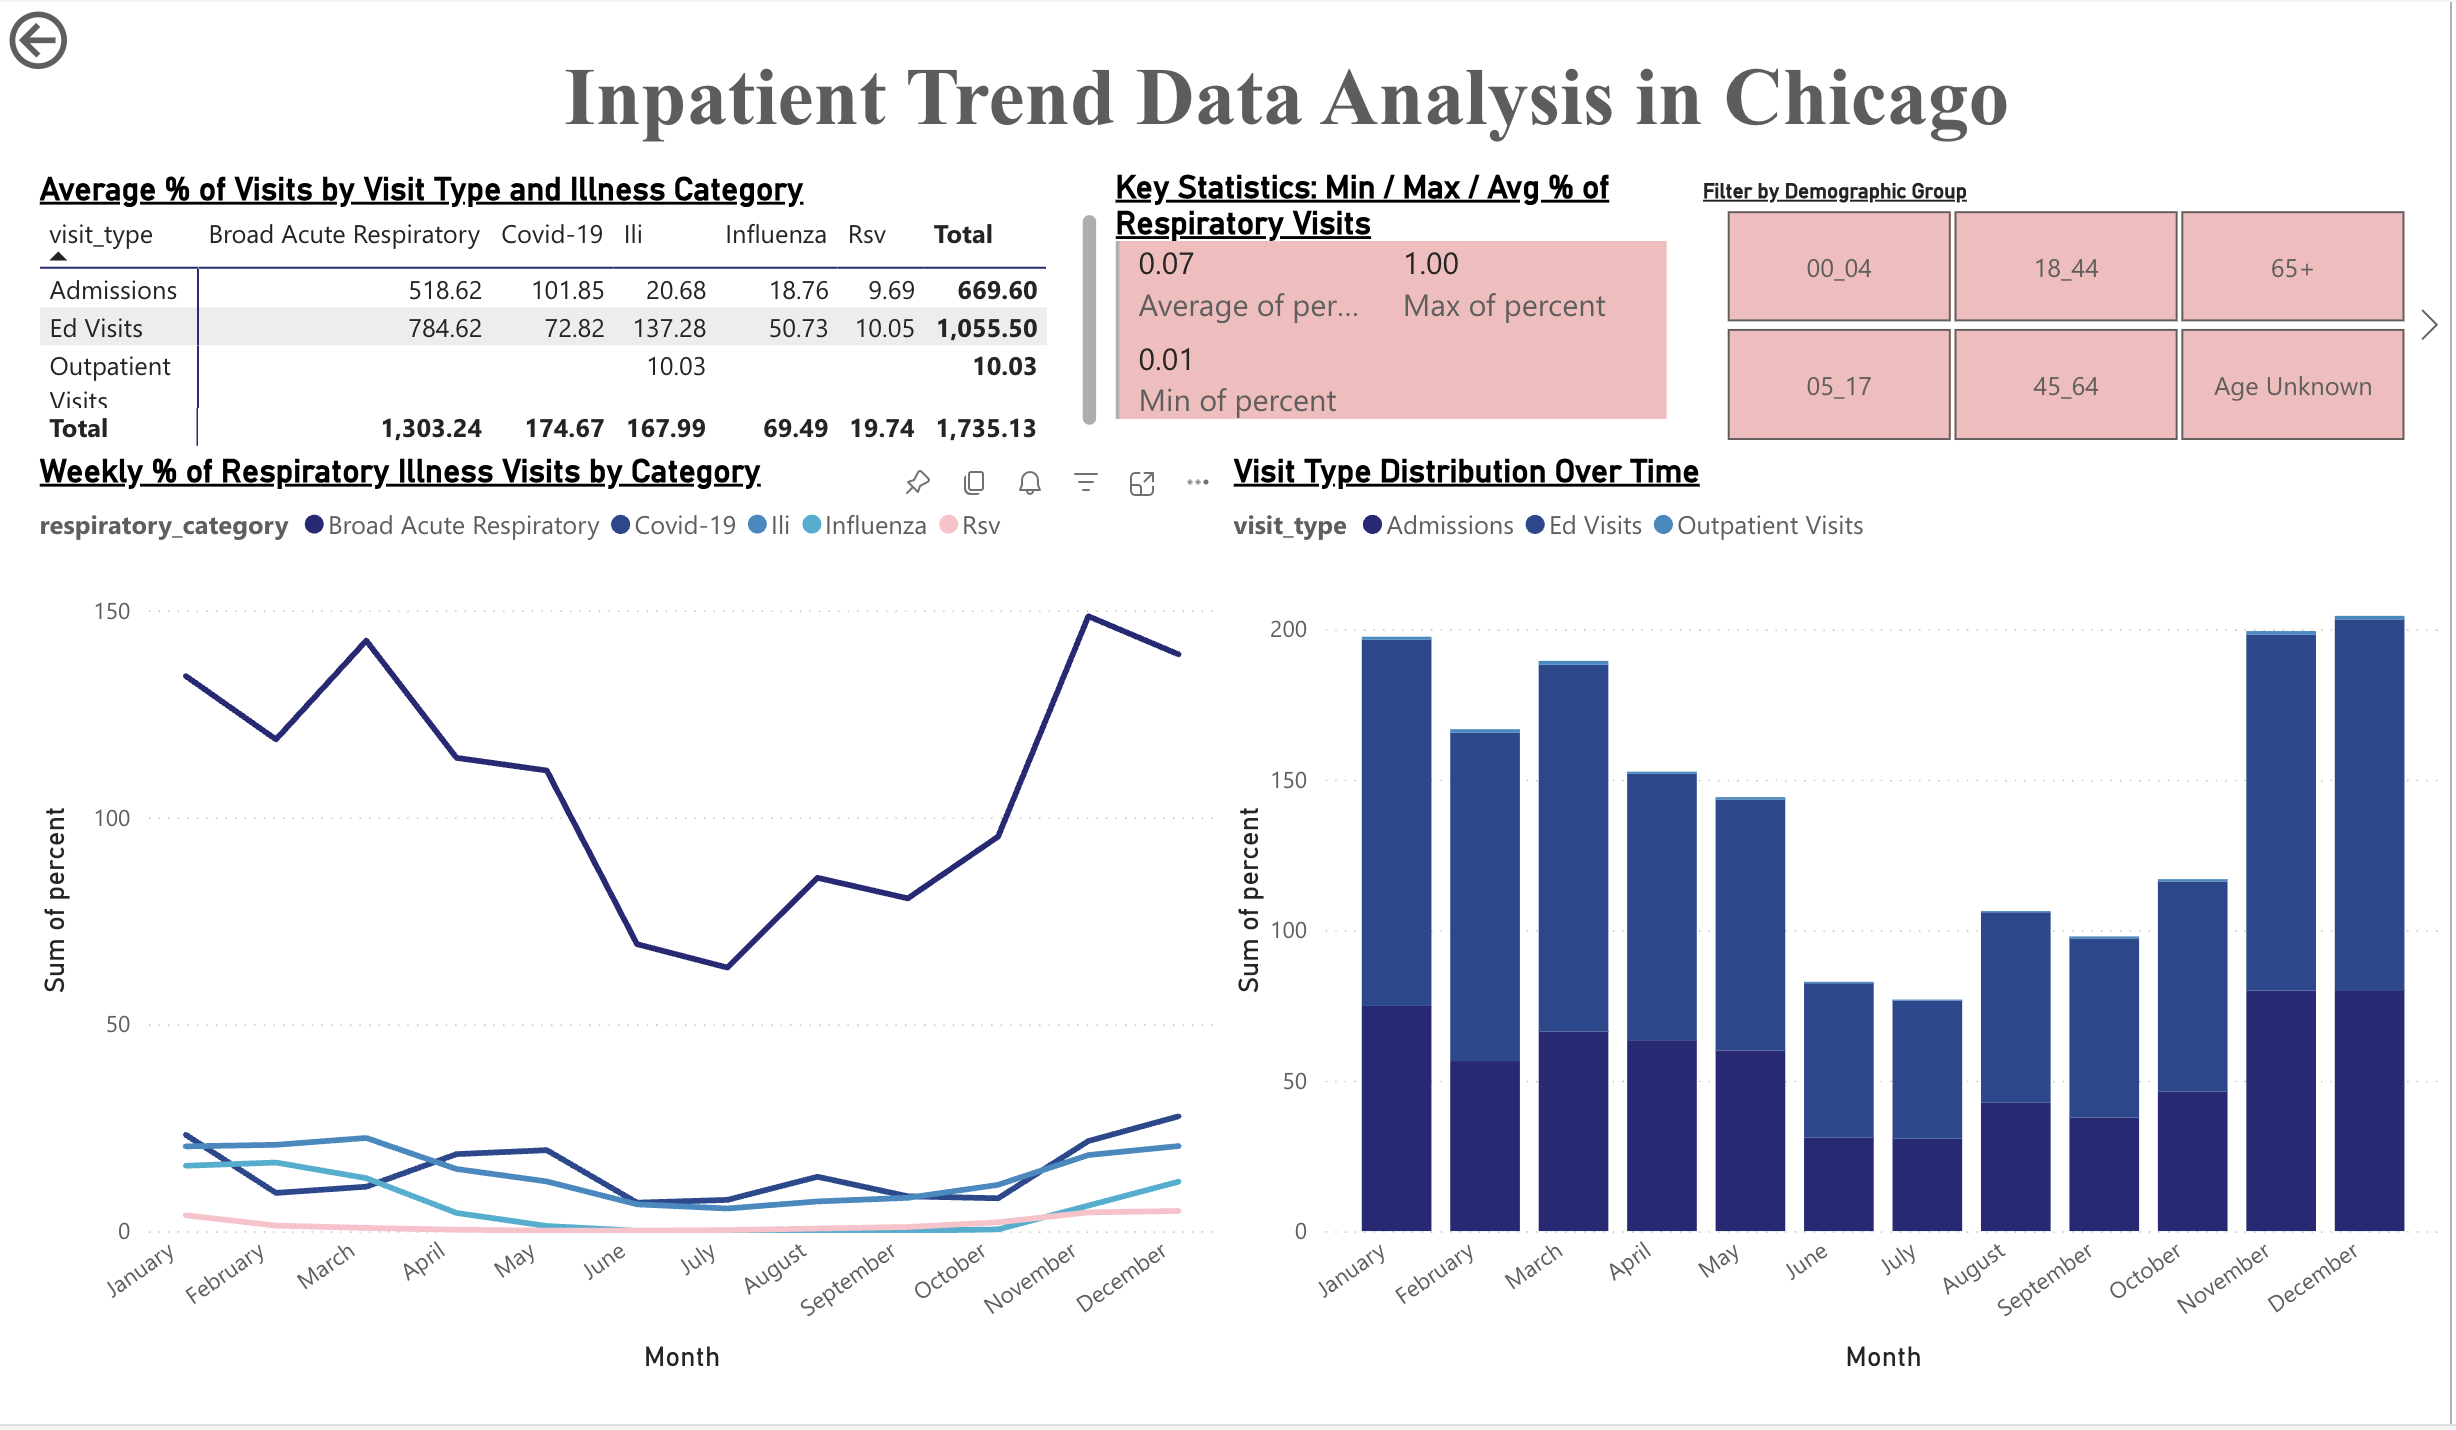

The dashboard page shown, as its layout file describes it:
{"tool":"powerbi","page":{"name":"Respiratory Illness Trends in Chicago","canvas":[1280,720],"ordinal":0},"visuals":[{"type":"lineChart","title":"Weekly % of Respiratory Illness Visits by Category","fields":{"Y":["Sum(Inpatient_Respiratory_Visits_Cleaned.percent)"],"Series":["Inpatient_Respiratory_Visits_Cleaned.respiratory_category"],"Category":["Inpatient_Respiratory_Visits_Cleaned.current_week_ending.Variation.Date Hierarchy.Month"]},"box":[15.3,237,624,483.3],"z":0},{"type":"columnChart","title":"Visit Type Distribution Over Time","fields":{"Series":["Inpatient_Respiratory_Visits_Cleaned.visit_type"],"Category":["Inpatient_Respiratory_Visits_Cleaned.current_week_ending.Variation.Date Hierarchy.Year","Inpatient_Respiratory_Visits_Cleaned.current_week_ending.Variation.Date Hierarchy.Quarter","Inpatient_Respiratory_Visits_Cleaned.current_week_ending.Variation.Date Hierarchy.Month","Inpatient_Respiratory_Visits_Cleaned.current_week_ending.Variation.Date Hierarchy.Day"],"Y":["Sum(Inpatient_Respiratory_Visits_Cleaned.percent)"]},"box":[639.3,237,640.8,483.3],"z":1000},{"type":"slicer","title":"Filter by Demographic Group","fields":{"Values":["Inpatient_Respiratory_Visits_Cleaned.demographic_group"]},"box":[876.3,88.7,403.7,146.8],"z":2000},{"type":"actionButton","box":[0,0,100,40],"z":3000},{"type":"multiRowCard","title":"Key Statistics: Min / Max / Avg % of Respiratory Visits","fields":{"Values":["Avg(Inpatient_Respiratory_Visits_Cleaned.percent)","Max(Inpatient_Respiratory_Visits_Cleaned.percent)","Min(Inpatient_Respiratory_Visits_Cleaned.percent)1"]},"box":[578.1,88.7,298.2,145.3],"z":4000},{"type":"pivotTable","title":"Average % of Visits by Visit Type and Illness Category","fields":{"Rows":["Inpatient_Respiratory_Visits_Cleaned.visit_type"],"Columns":["Inpatient_Respiratory_Visits_Cleaned.respiratory_category"],"Values":["Sum(Inpatient_Respiratory_Visits_Cleaned.percent)"]},"box":[15.3,90.2,562.8,146.8],"z":5000},{"type":"textbox","box":[214.1,19.9,916.1,68.8],"z":6000}]}

Visuals, with their boxes on the page's 1280x720 design canvas (x1, y1, x2, y2). These are canvas units, not pixel positions in the 2456x1430 screenshot, which may show the page scaled, cropped or inside an application window:
"Weekly % of Respiratory Illness Visits by Category" lineChart: bbox=(15, 237, 639, 720)
"Visit Type Distribution Over Time" columnChart: bbox=(639, 237, 1280, 720)
"Filter by Demographic Group" slicer: bbox=(876, 89, 1280, 236)
actionButton: bbox=(0, 0, 100, 40)
"Key Statistics: Min / Max / Avg % of Respiratory Visits" multiRowCard: bbox=(578, 89, 876, 234)
"Average % of Visits by Visit Type and Illness Category" pivotTable: bbox=(15, 90, 578, 237)
textbox: bbox=(214, 20, 1130, 89)
